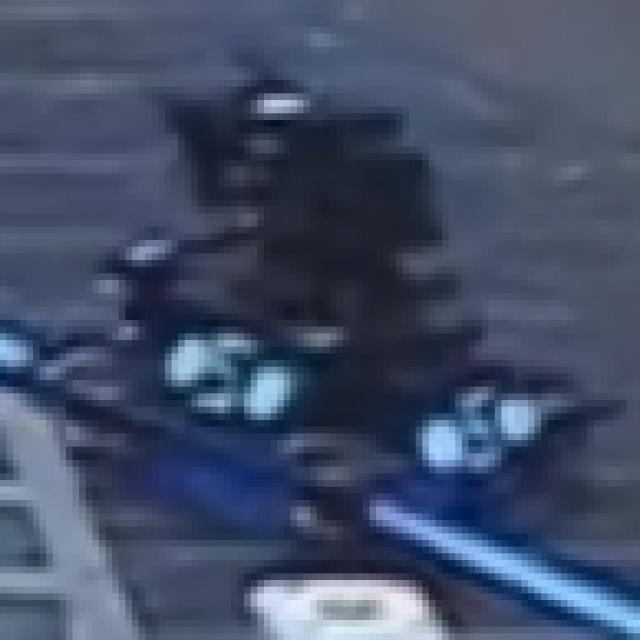B5: (152, 326, 290, 426), (409, 373, 535, 467)
